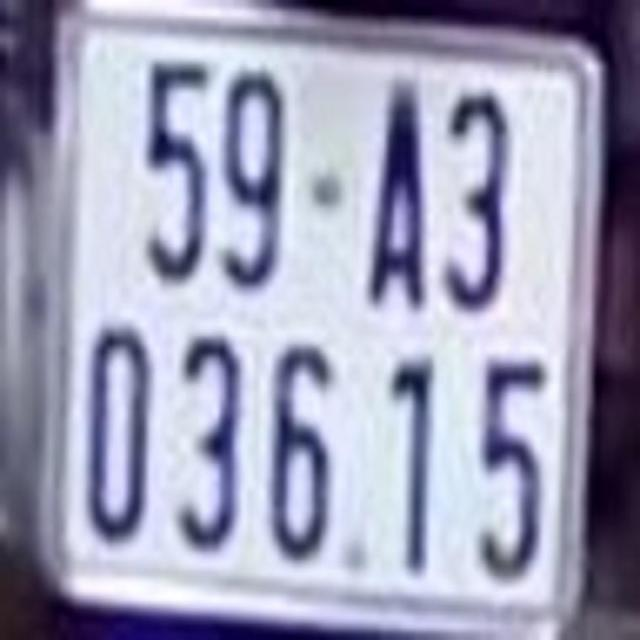0: (82, 310, 148, 540)
1: (381, 342, 438, 580)
3: (443, 81, 509, 312), (177, 330, 240, 553)
5: (473, 347, 544, 584), (137, 50, 210, 280)
6: (264, 336, 332, 559)
9: (216, 61, 284, 286)
A: (364, 67, 432, 312)
